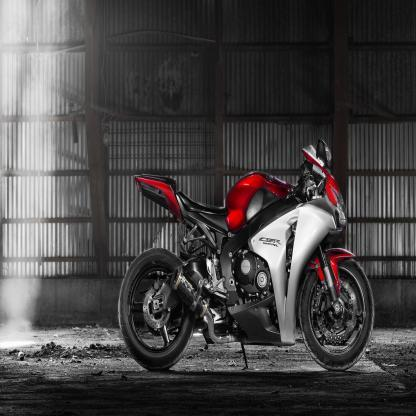Motorcycle: (114, 136, 379, 374)
